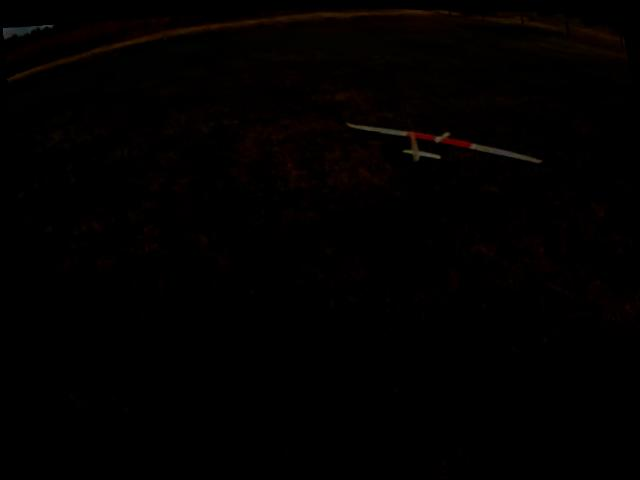uav: (332, 89, 548, 198)
